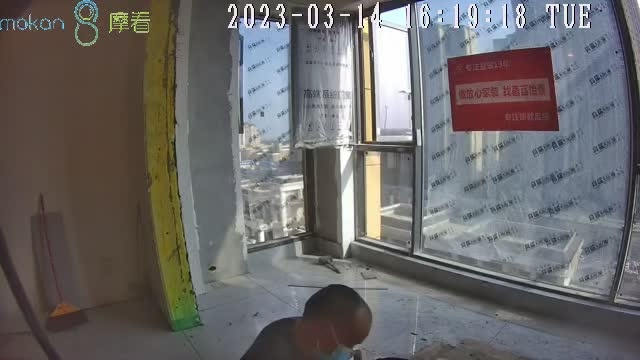people: (237, 284, 374, 360)
window: (240, 1, 638, 310)
